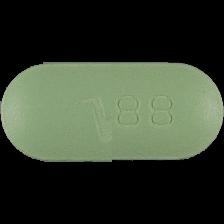63629-4506: (0, 0, 224, 224)
